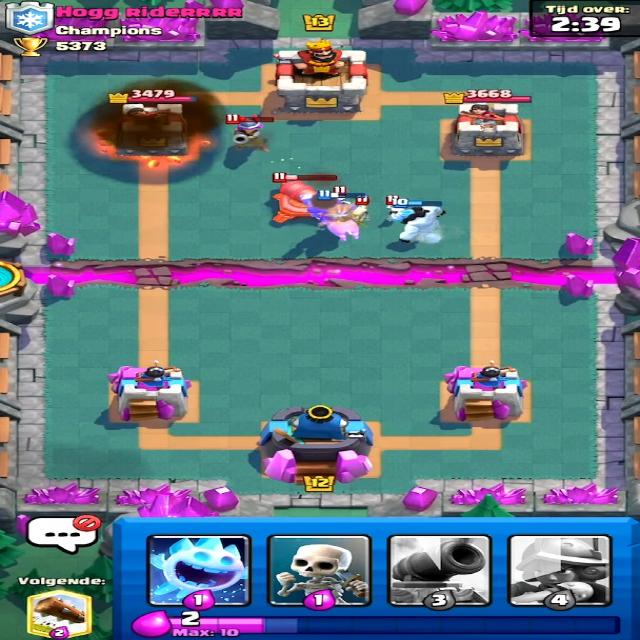Cannon_Card: (385, 532, 491, 610)
Enemy_Cannon_Troop: (272, 176, 342, 226)
Enemy_Musketeer_Troop: (220, 115, 274, 153)
Hog_Rider_Troop: (303, 192, 364, 252)
Ice_Golem_Troop: (386, 199, 460, 256)
Ice_Spirit_Card: (154, 534, 256, 608)
Musketeer_Card: (509, 534, 608, 608)
Skeleton_Card: (268, 535, 366, 606)
